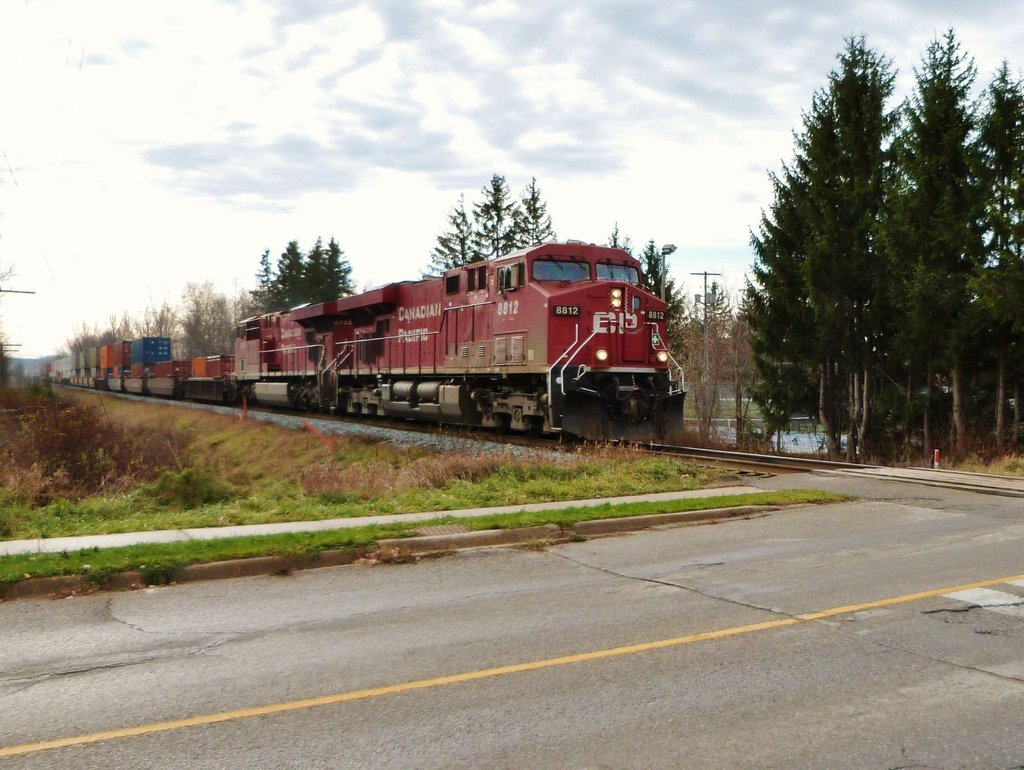train: (37, 240, 689, 440)
